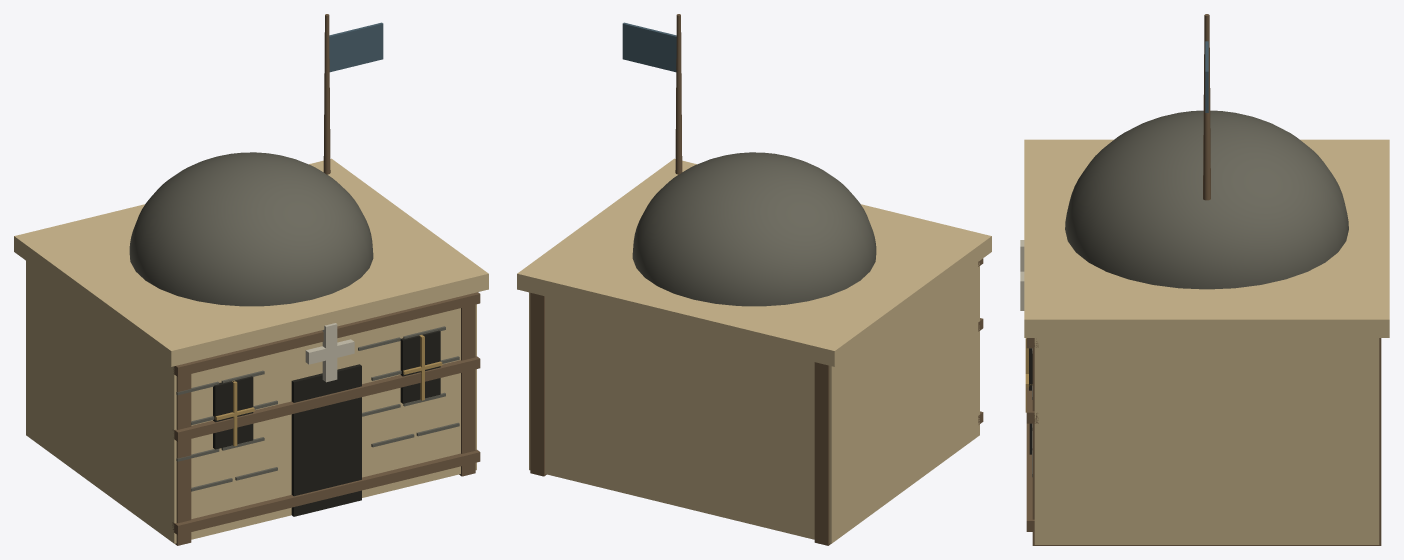
Rendered from b-healing-ayyubid.glb.
The picture shows the model from 3 angles, left to right: view 1: azimuth 30°, elevation 25°; view 2: azimuth 150°, elevation 25°; view 3: azimuth 270°, elevation 25°; orthographic projection. The views are drawn at different scales.
Parts seen in each view (by area): view 1: Structure; view 2: Structure; view 3: Structure.
Boxes of the visible parts, x1=… form: Structure: x1=14, y1=14, x2=488, y2=545; Structure: x1=517, y1=14, x2=991, y2=545; Structure: x1=1020, y1=14, x2=1389, y2=545.
Bounding box in the file's own units: 4.2 × 5.33 × 3.64.
